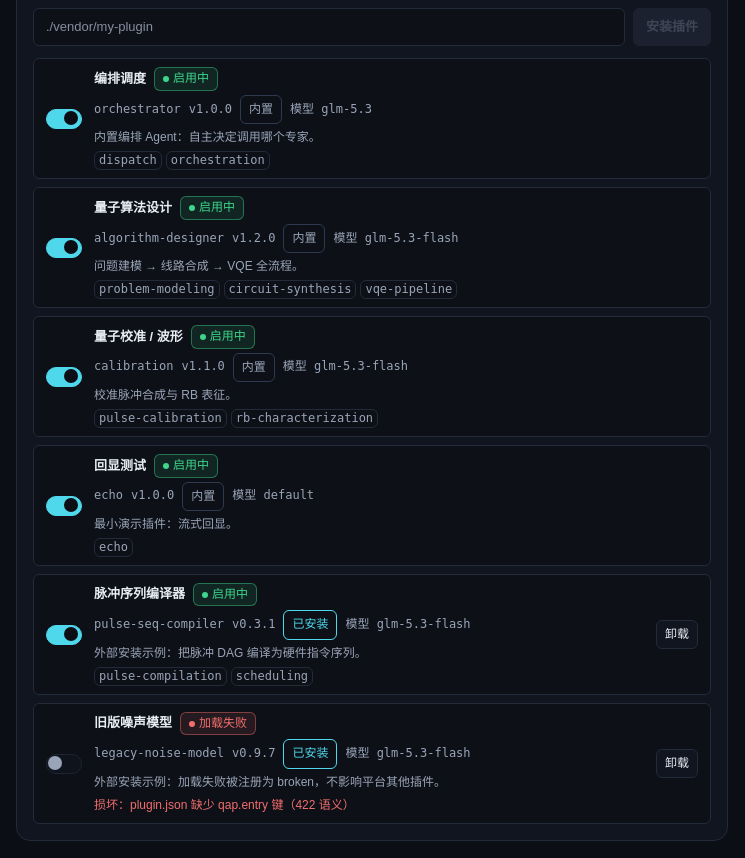
it: SettingsPage 四分区 › 插件：列表（来源徽标 + broken 原因）；启停调 PUT；卸载两段确认
(page scrolled)
Expected: the list item with test id "plugin-item-legacy-noise-model" shows "已安装", top-left (292, 746), bottom-right (328, 760)
Expected: the list item with test id "plugin-item-legacy-noise-model" shows "plugin.json", top-left (94, 798), bottom-right (355, 812)
// 启停：关掉 echo
Click the switch with test id "plugin-toggle-echo" at (64, 506), box top-left (46, 496), bottom-right (82, 516)
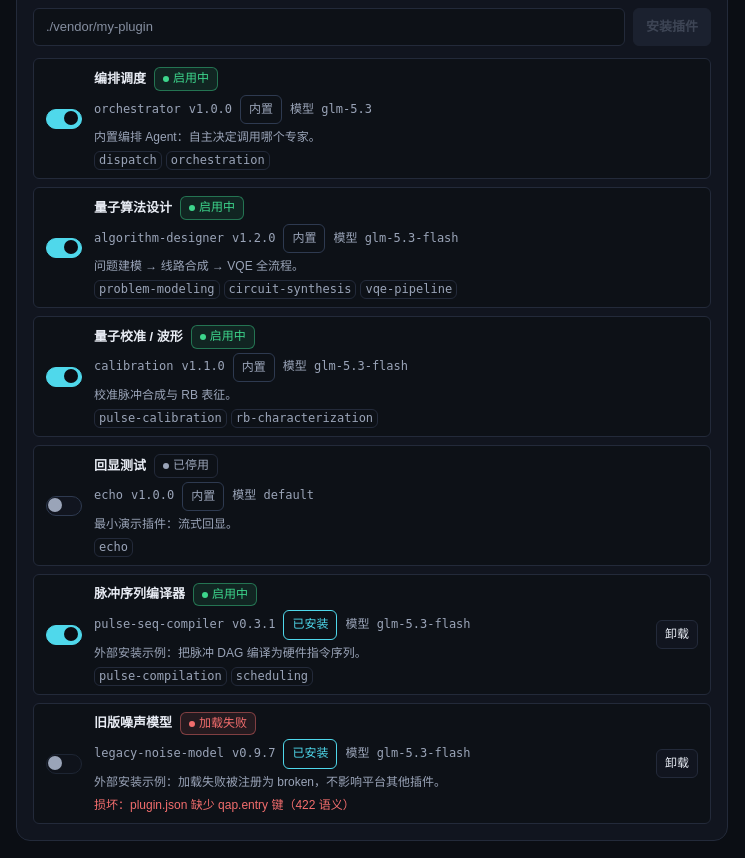
// 卸载：两段确认 installed 插件
Click the button "卸载" in the row of "pulse-seq-compiler" at (677, 635), box top-left (656, 620), bottom-right (698, 649)
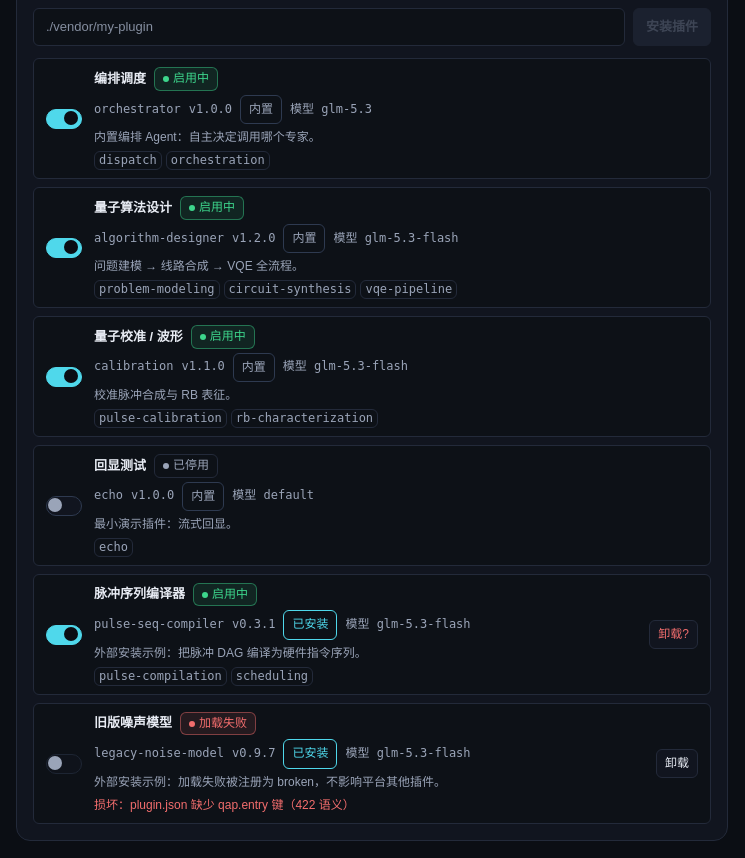
Click the button with test id "plugin-uninstall-confirm-pulse-seq-compiler" at (674, 635), box top-left (649, 620), bottom-right (698, 649)
(page scrolled)
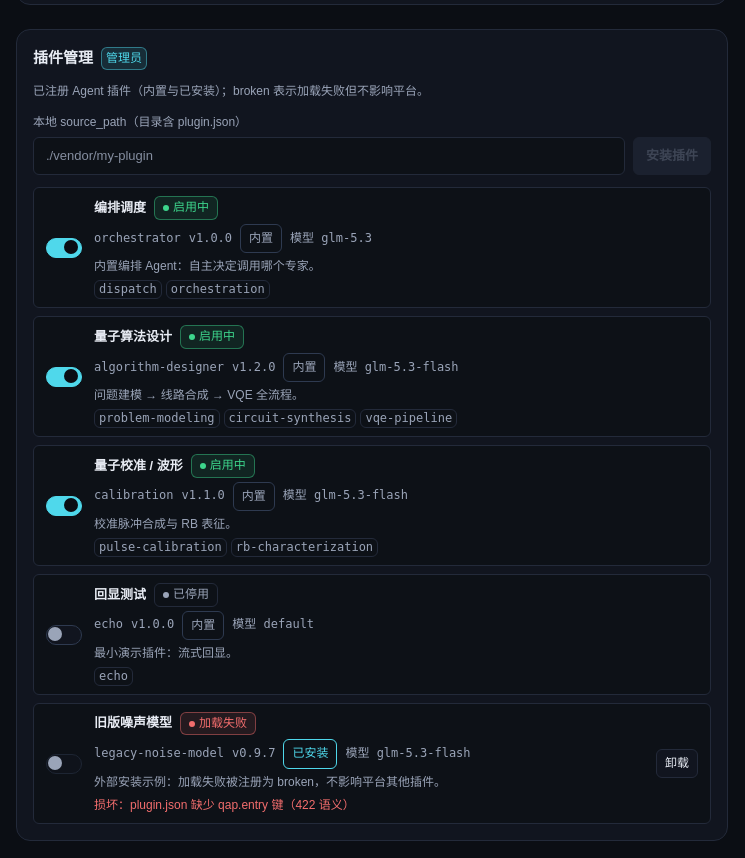
Expected: the list item with test id "plugin-item-pulse-seq-compiler" is gone
